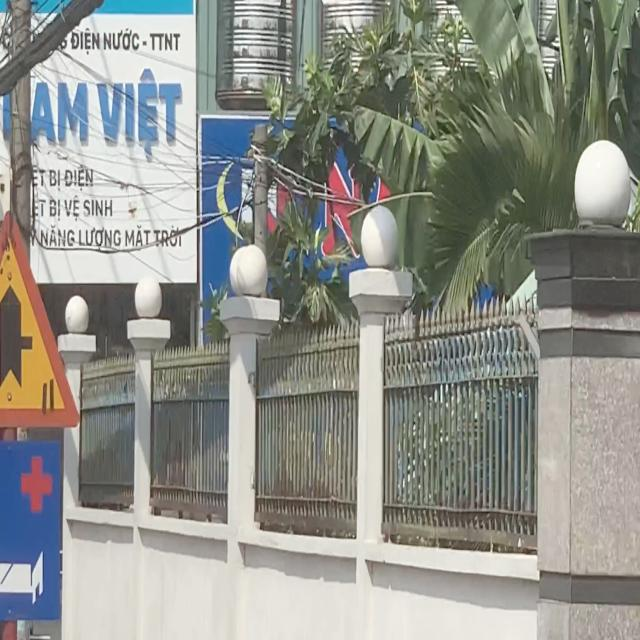Giao voi duong khong uu tien: (0, 193, 81, 443)
